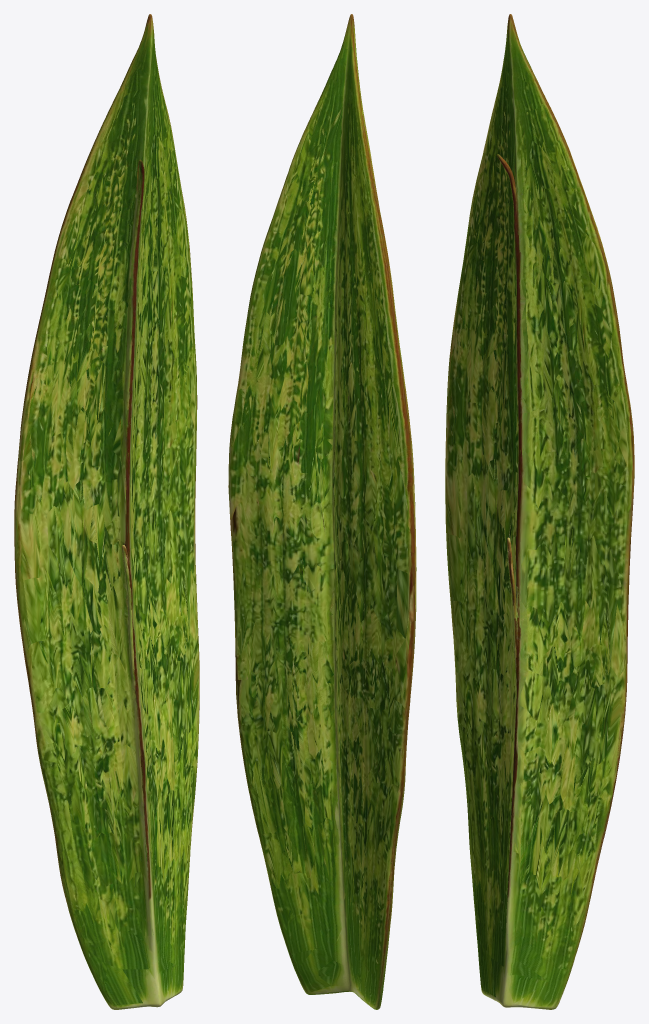
File: sugarcane_mosaic.glb
3 views of the same model, side by side, from view 1: azimuth 30°, elevation 25°; view 2: azimuth 150°, elevation 25°; view 3: azimuth 330°, elevation 25° (orthographic).
Parts seen in each view (by area): view 1: sugarcane_mosaic; view 2: sugarcane_mosaic; view 3: sugarcane_mosaic.
Boxes of the visible parts, x1,y1,x2,y2 form: sugarcane_mosaic: (14, 14, 199, 1009); sugarcane_mosaic: (228, 14, 416, 1009); sugarcane_mosaic: (445, 14, 634, 1009).
Size of the model in its own units: 0.1952 by 1 by 0.09.
Materials: 1 (1 with a texture image).
